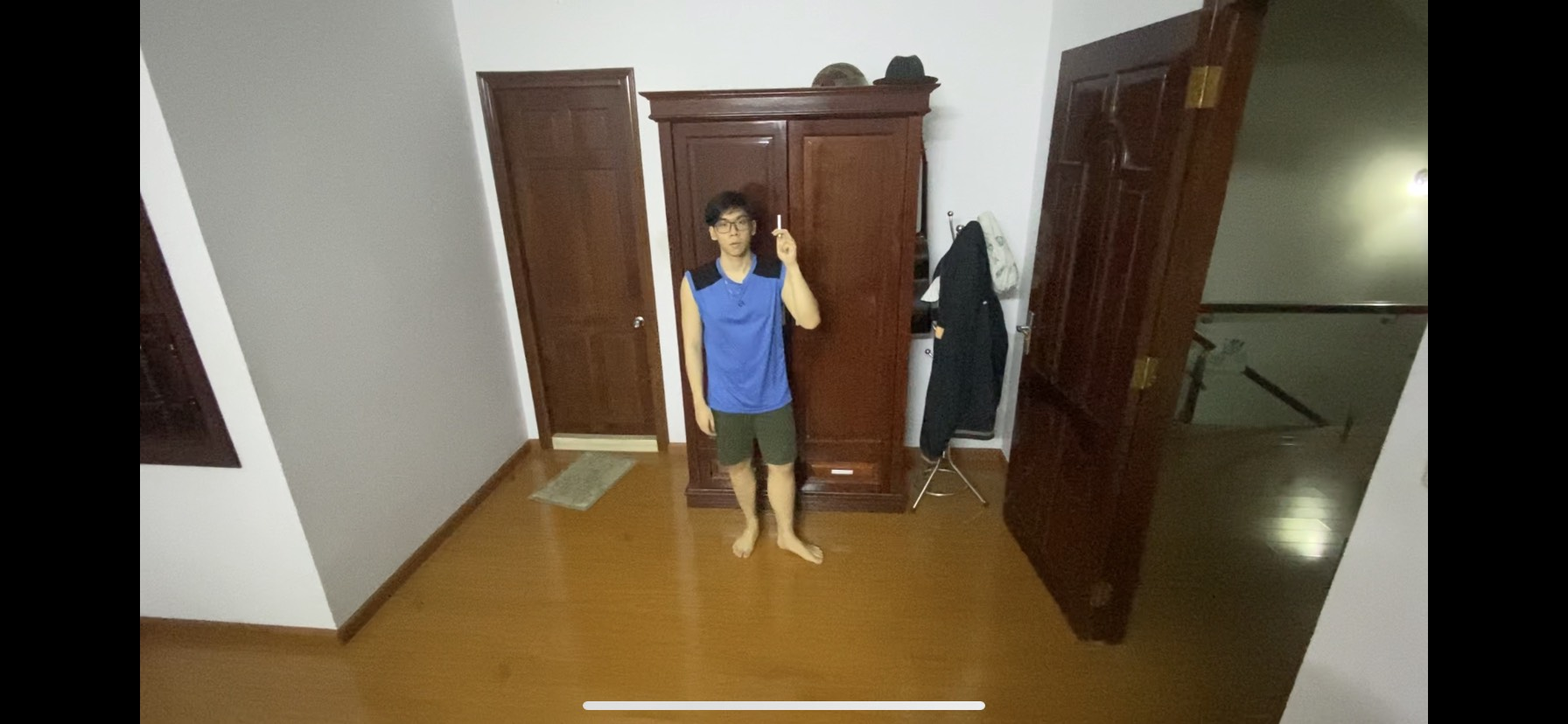cigarette: (773, 213, 788, 227)
person: (667, 188, 829, 602)
